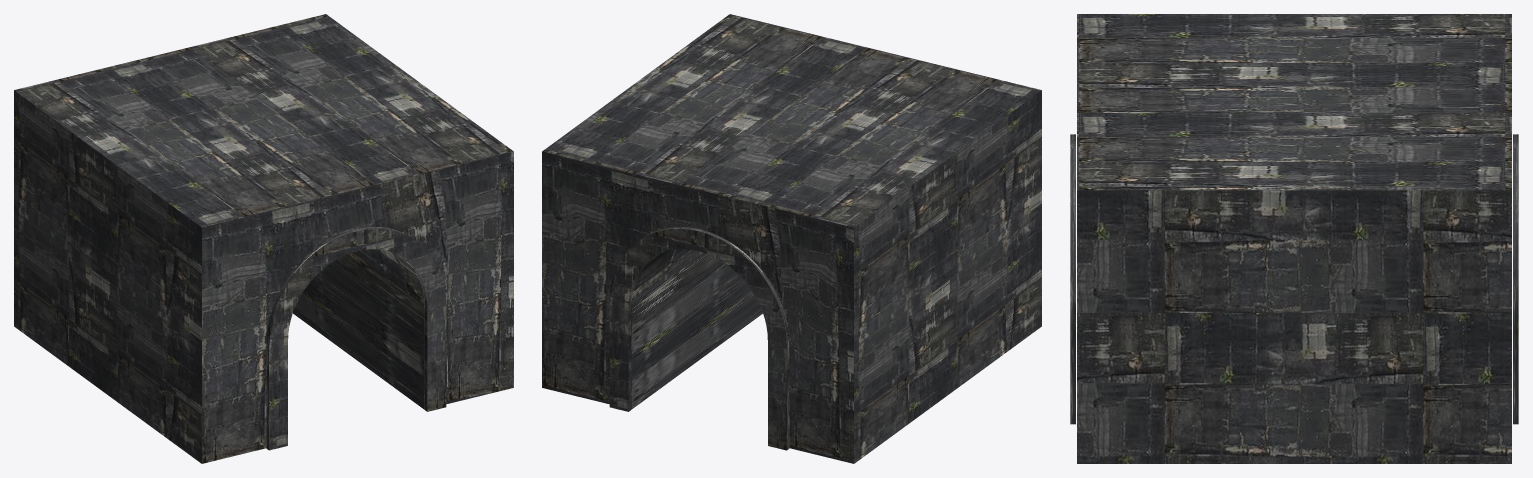
File: HoCitadelSub01.glb
3 renders of one model, left to right at view 1: azimuth 30°, elevation 25°; view 2: azimuth 150°, elevation 25°; view 3: azimuth 270°, elevation 25°, orthographic. The views are drawn at different scales.
Parts seen in each view (by area): view 1: Base.004; view 2: Base.004; view 3: Base.004.
Part boxes in pixels (left/top/right/bottom): Base.004: left=14, top=14, right=513, bottom=463; Base.004: left=542, top=14, right=1041, bottom=463; Base.004: left=1070, top=14, right=1518, bottom=463.
Size of the model in its own units: 43.54 by 31.54 by 46.78.
Materials: 1 (1 with a texture image).
